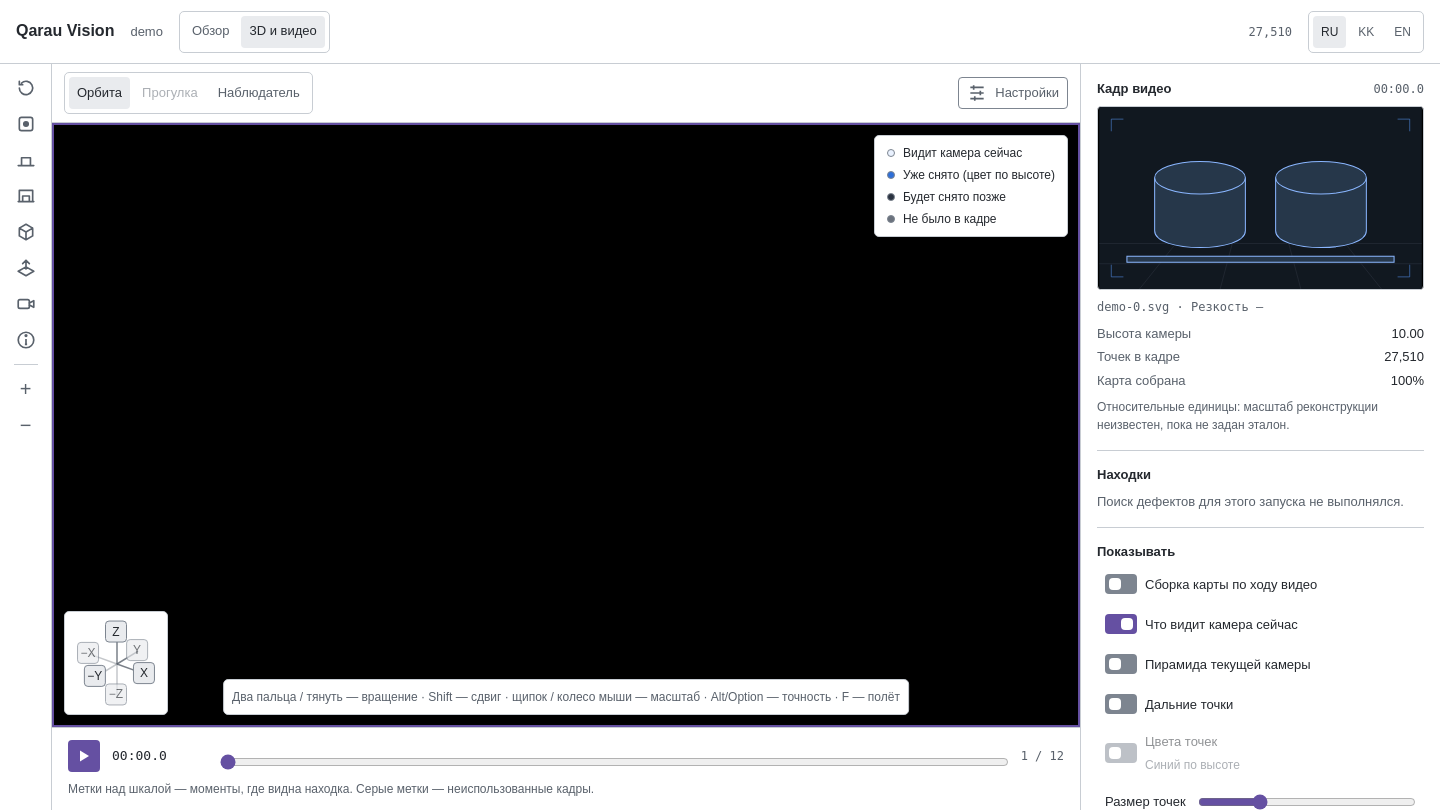
Test: localizes axis controls and the Observer hint in ru
This screenshot has width=1440, height=810.
Expected: the button named "Вид справа (+X)" is shown, [133,662,155,684]
Expected: the button named "Вид слева (−X)" is shown, [77,642,99,664]
Press f in the drawing named "Интерактивная 3D-карта: облако точек и путь камеры. Два пальца или мышь — вращение, Shift — сдвиг, щипок или колесо мыши", box [52,123,1080,727]
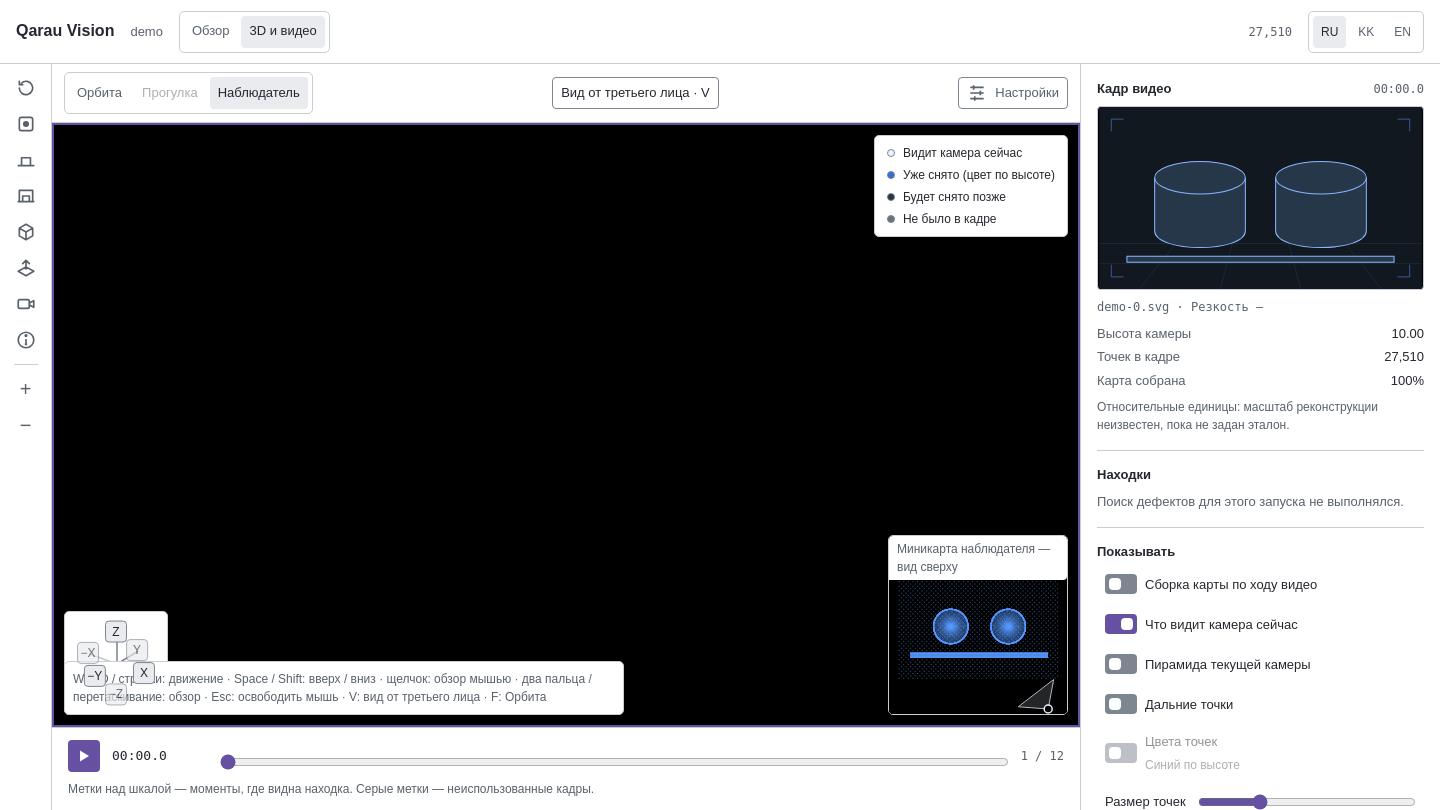
Expected: the message shows "WASD / стрелки: движение · Space / Shift: вверх / вниз · щелчок: обзор мышью · два пальца / перетаскивание: обзор · Esc: освободить мышь · V: вид от третьего ли", [73,672,592,704]
Click the button named "Вид сверху (+Z)" at [116, 632], box [105,620,127,642]
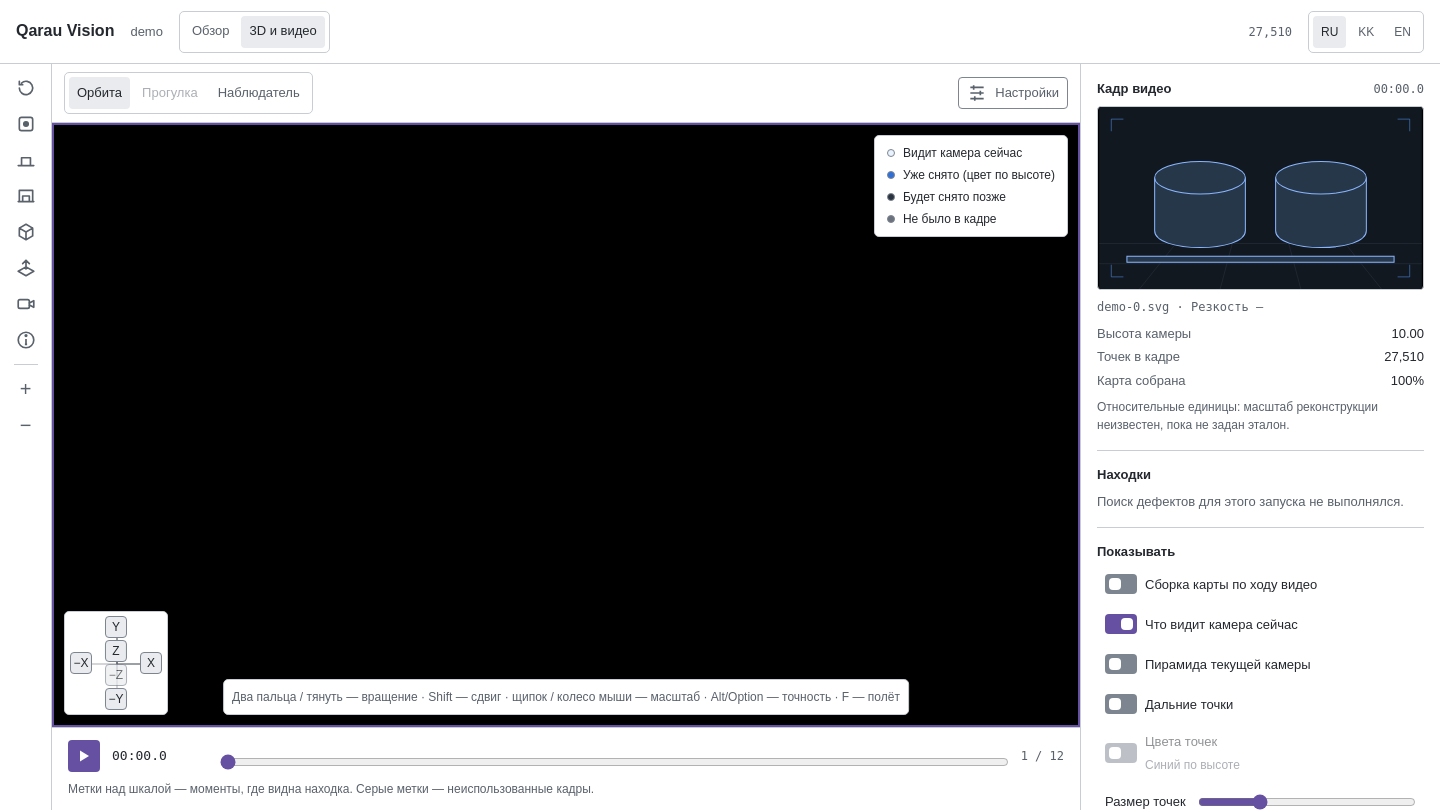
Expected: the message shows "Два пальца / тянуть — вращение · Shift — сдвиг · щипок / колесо мыши — масштаб · Alt/Option — точность · F — полёт", [232,690,900,704]
